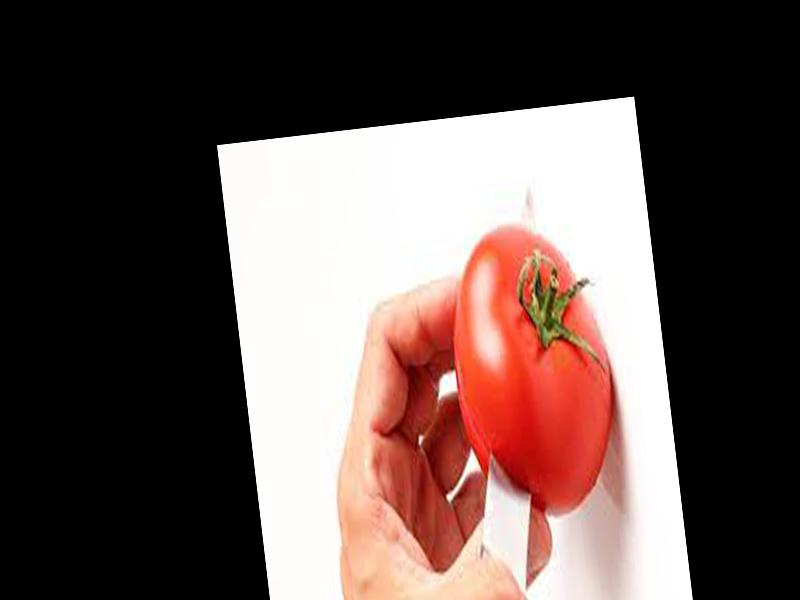Tomato: (438, 221, 625, 524)
